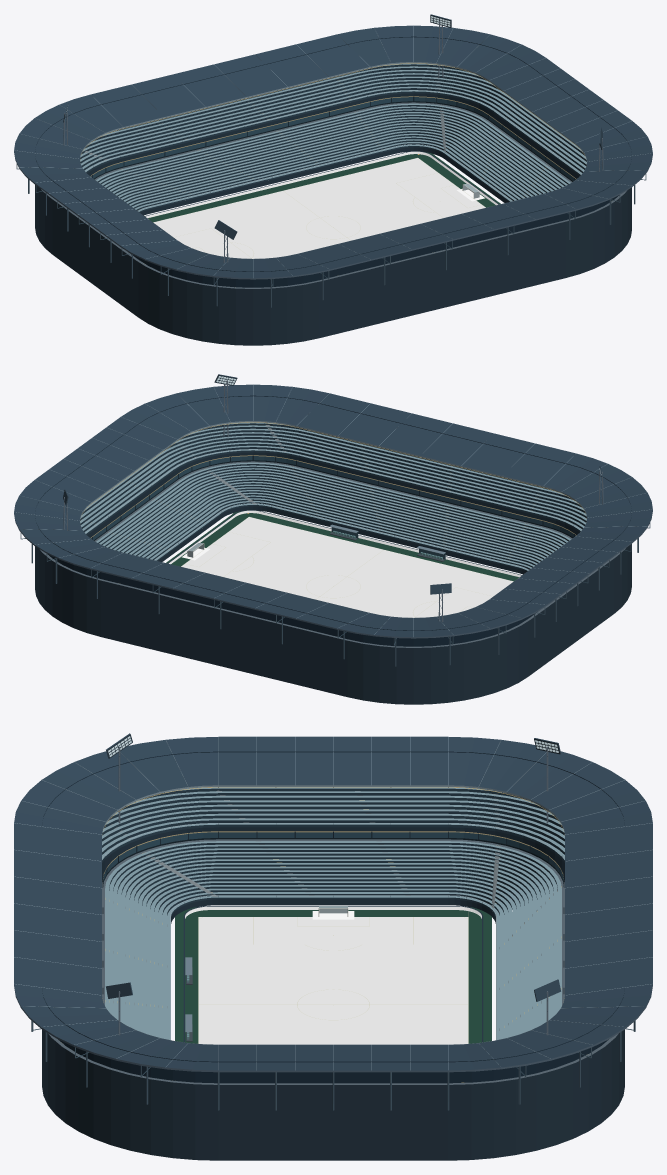
Rendered from stadium-lod0.glb.
The picture shows the model from 3 angles, top to bottom: view 1: azimuth 30°, elevation 25°; view 2: azimuth 150°, elevation 25°; view 3: azimuth 270°, elevation 25°; orthographic projection. The views are drawn at different scales.
Parts seen in each view (by area): view 1: Roof_Canopy, Facade_Concrete, Bowl_Seats, Bowl_Risers, Pitch_Turf, Bowl_Concrete, Windbreak_Steel, Roof_Steel, Concourse_Glass, Pitch_Runoff, Structure_Steel, Perimeter_Led (+6 smaller); view 2: Roof_Canopy, Facade_Concrete, Bowl_Seats, Bowl_Risers, Pitch_Turf, Bowl_Concrete, Windbreak_Steel, Roof_Steel, Concourse_Glass, Pitch_Runoff, Structure_Steel, Perimeter_Led (+7 smaller); view 3: Roof_Canopy, Bowl_Seats, Facade_Concrete, Pitch_Turf, Bowl_Risers, Bowl_Concrete, Windbreak_Steel, Pitch_Runoff, Roof_Steel, Concourse_Glass, Floodlights_Steel, Structure_Steel (+7 smaller).
Boxes of the visible parts, <box> form: Roof_Canopy: <box>14,25,652,278</box>; Facade_Concrete: <box>35,185,631,345</box>; Bowl_Seats: <box>80,63,586,211</box>; Bowl_Risers: <box>80,64,586,212</box>; Pitch_Turf: <box>153,158,485,258</box>; Bowl_Concrete: <box>41,93,626,288</box>; Windbreak_Steel: <box>35,36,631,287</box>; Roof_Steel: <box>14,25,652,279</box>; Concourse_Glass: <box>91,97,575,181</box>; Pitch_Runoff: <box>144,152,500,222</box>; Structure_Steel: <box>16,63,646,307</box>; Perimeter_Led: <box>145,151,497,218</box>; Roof_Canopy: <box>14,384,652,637</box>; Facade_Concrete: <box>35,544,631,704</box>; Bowl_Seats: <box>80,422,586,570</box>; Bowl_Risers: <box>80,423,586,571</box>; Pitch_Turf: <box>181,517,513,617</box>; Bowl_Concrete: <box>40,452,625,647</box>; Windbreak_Steel: <box>35,395,631,646</box>; Roof_Steel: <box>14,384,652,638</box>; Concourse_Glass: <box>91,456,575,540</box>; Pitch_Runoff: <box>166,511,522,581</box>; Structure_Steel: <box>20,422,650,666</box>; Perimeter_Led: <box>169,510,521,577</box>; Roof_Canopy: <box>14,736,652,1070</box>; Bowl_Seats: <box>102,787,564,1039</box>; Facade_Concrete: <box>42,1029,624,1160</box>; Pitch_Turf: <box>199,917,467,1044</box>; Bowl_Risers: <box>102,788,564,917</box>; Bowl_Concrete: <box>48,827,618,1084</box>; Windbreak_Steel: <box>42,751,624,1083</box>; Pitch_Runoff: <box>175,907,491,1043</box>; Roof_Steel: <box>14,737,652,1072</box>; Concourse_Glass: <box>103,832,563,881</box>; Floodlights_Steel: <box>106,733,560,1035</box>; Structure_Steel: <box>31,787,635,1110</box>.
Size of what is drawn, in the model's own units: 199 by 41.13 by 161.
